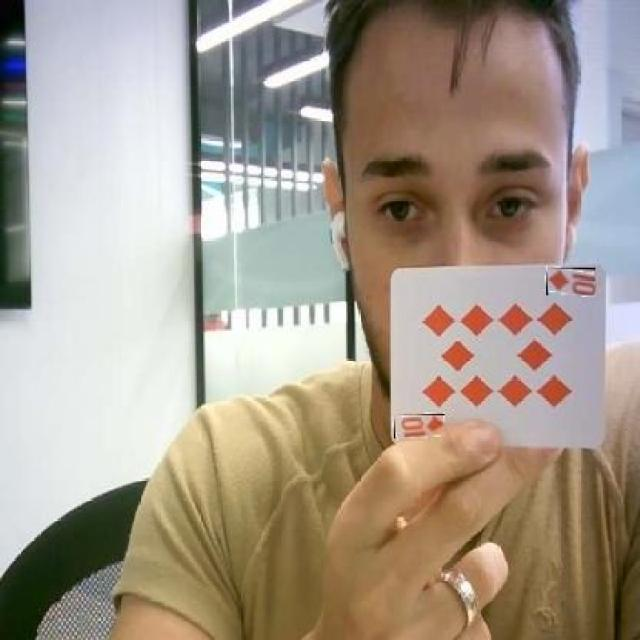10D: (546, 268, 596, 295), (394, 414, 444, 438)
